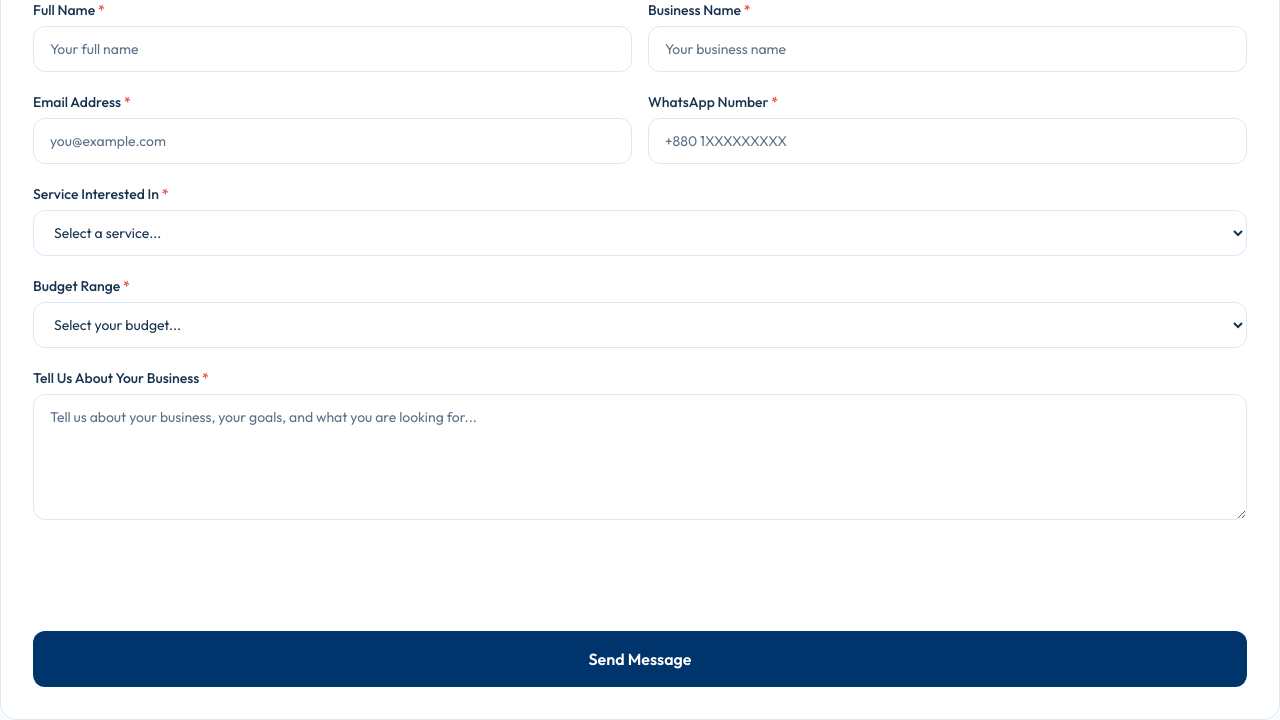
Contact Form Accessibility & Form States (ContactForm.tsx) › 6. client validation error response displays field-level messages and sets aria-invalid/aria-describedby
(page scrolled)
# Click submit with empty form
Click the button "Send Message" at (640, 659), box x1=33 y1=631 x2=1247 y2=687
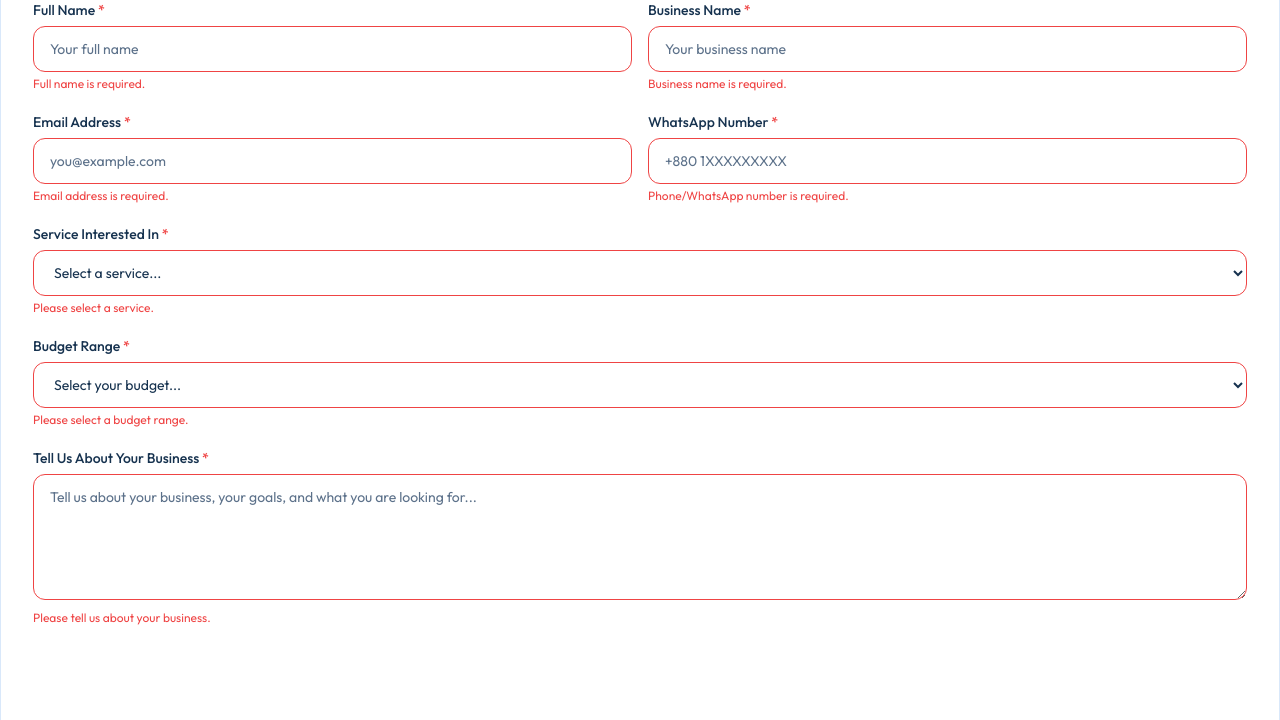
Now the text "Full name is required." is shown, box x1=33 y1=76 x2=145 y2=91
